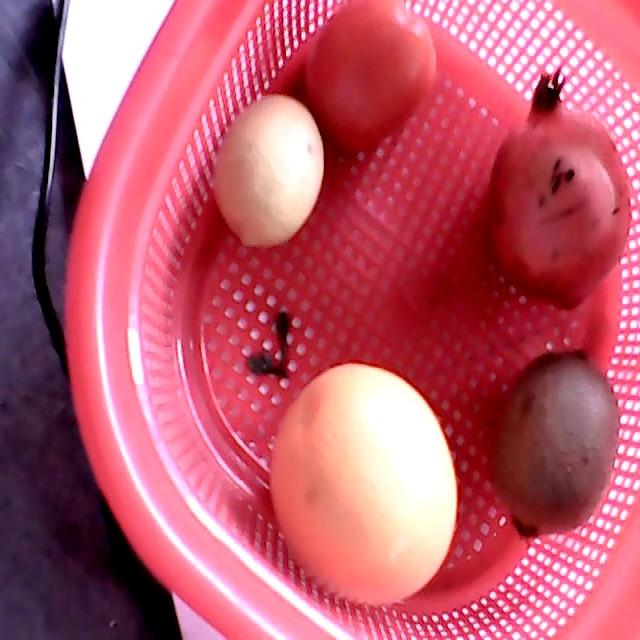kiwi: (489, 349, 620, 541)
lemon: (213, 94, 325, 248)
orange: (270, 363, 456, 608)
pomegranate: (485, 66, 631, 313)
tomato: (306, 0, 436, 150)
